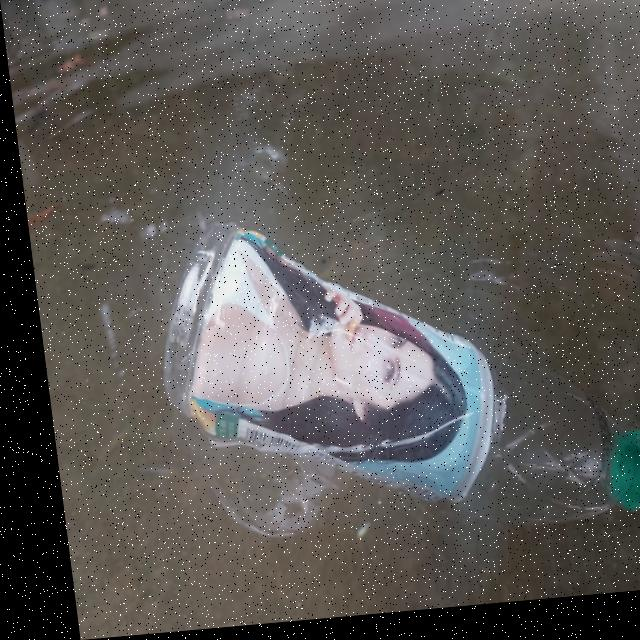paper: (139, 186, 640, 560)
